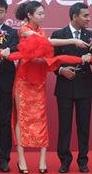boots: (16, 162, 29, 174), (59, 163, 69, 172)
